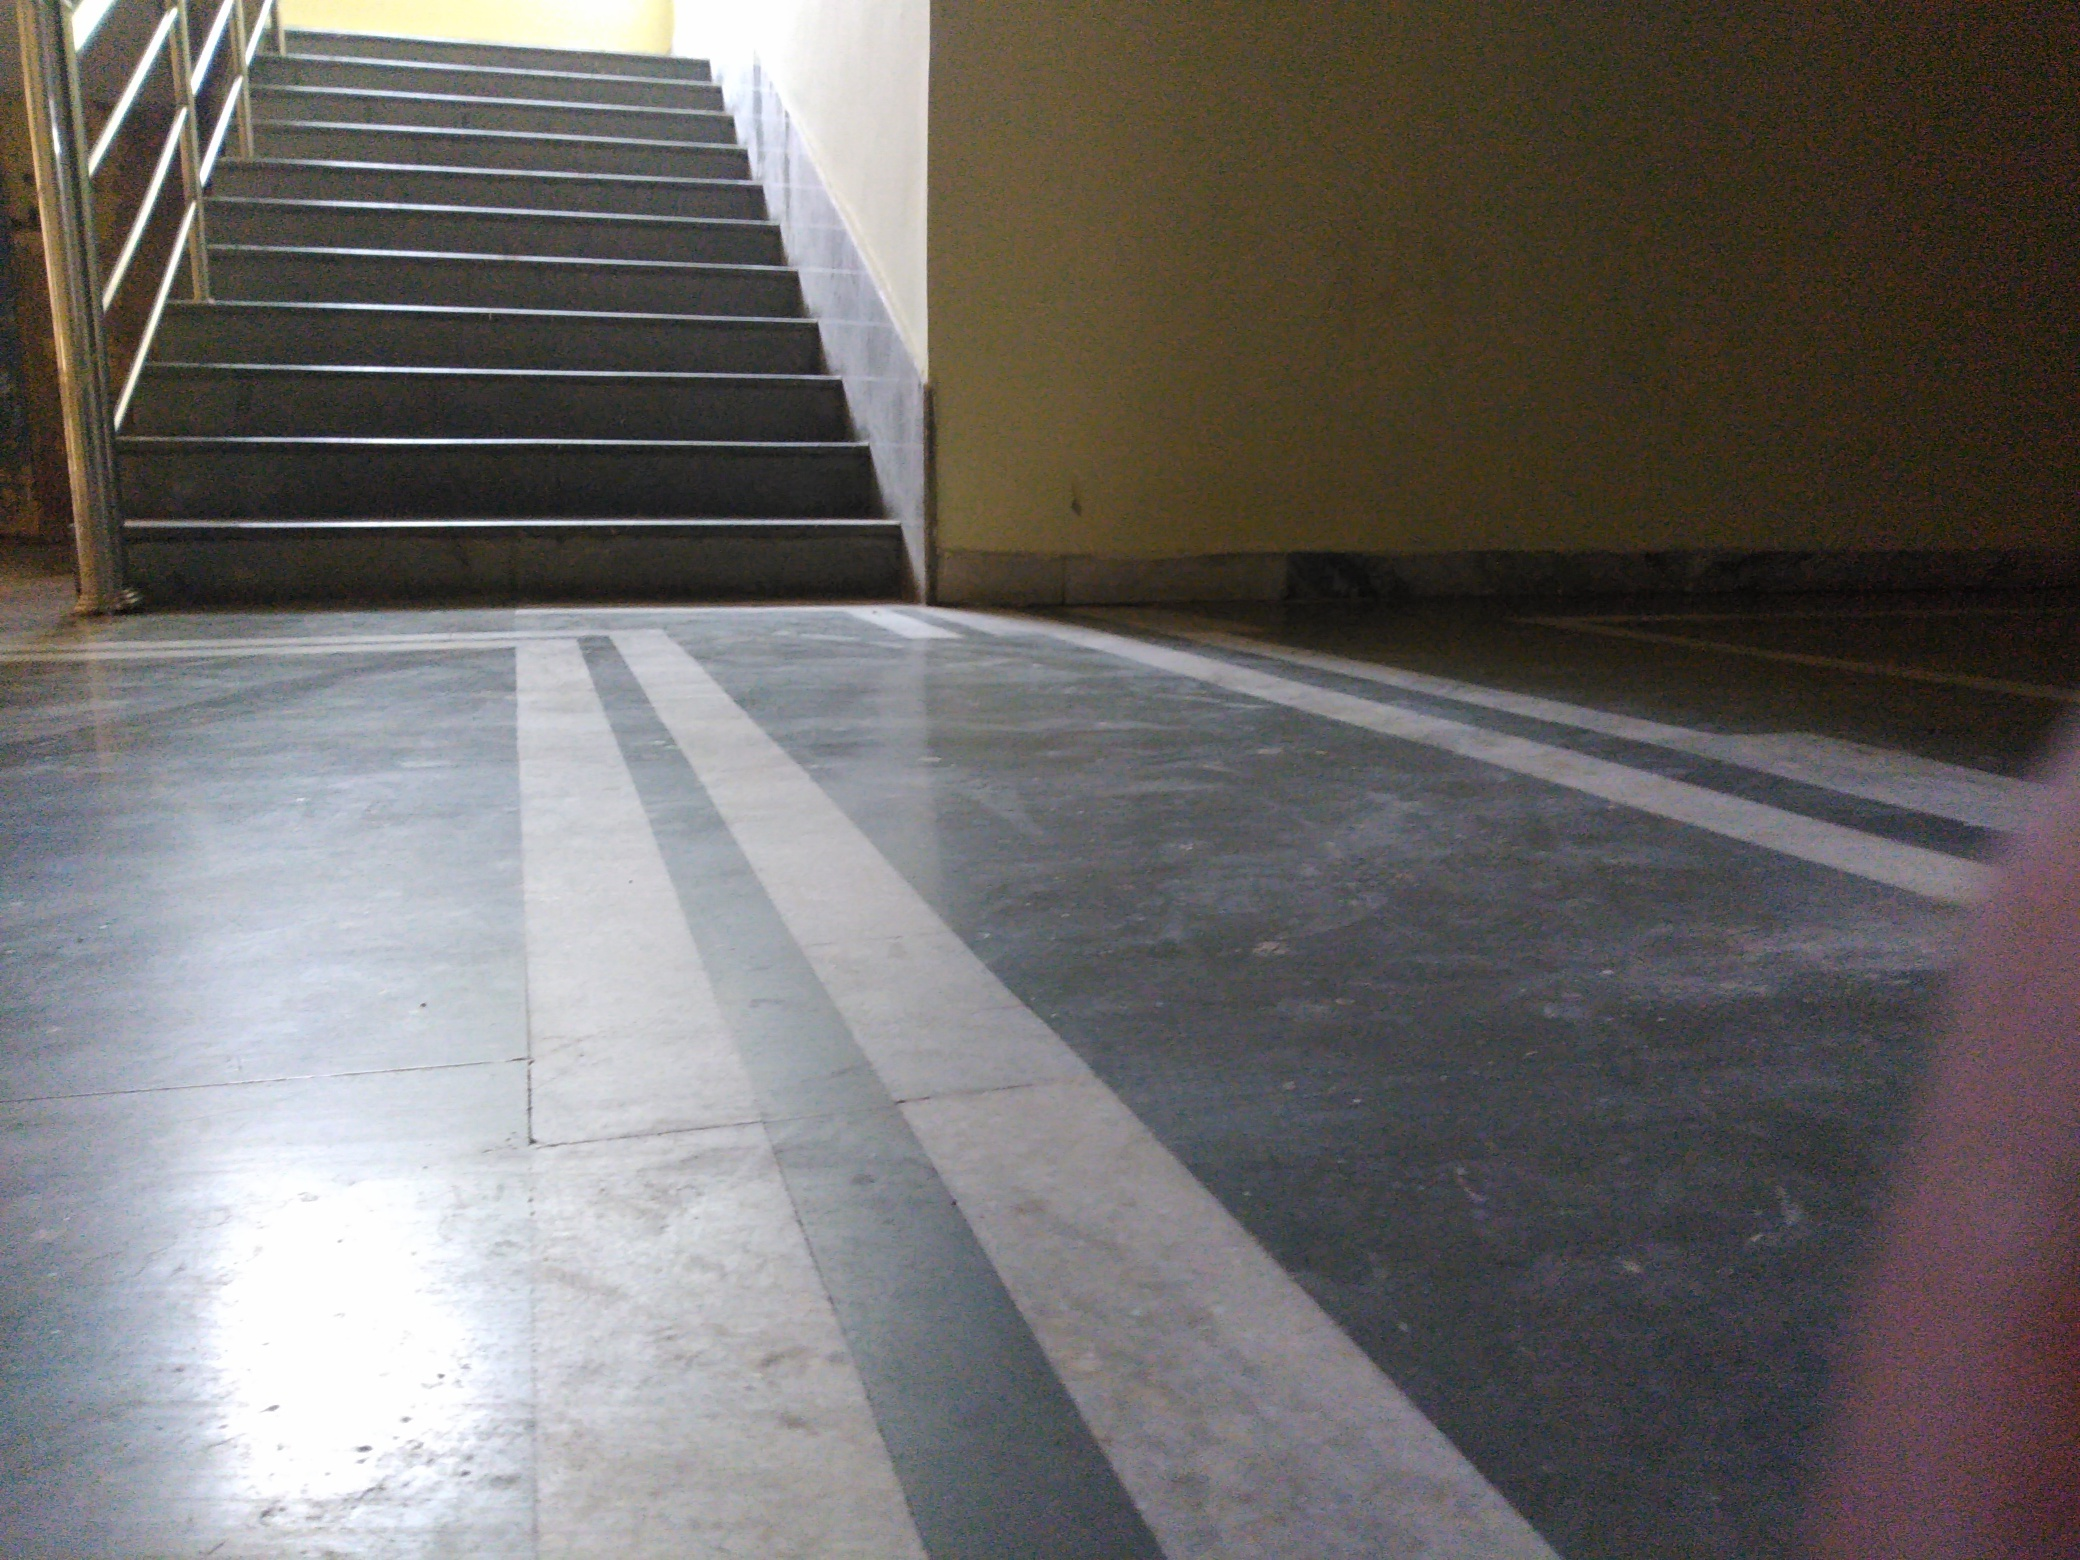stairs_up: (118, 20, 894, 601)
